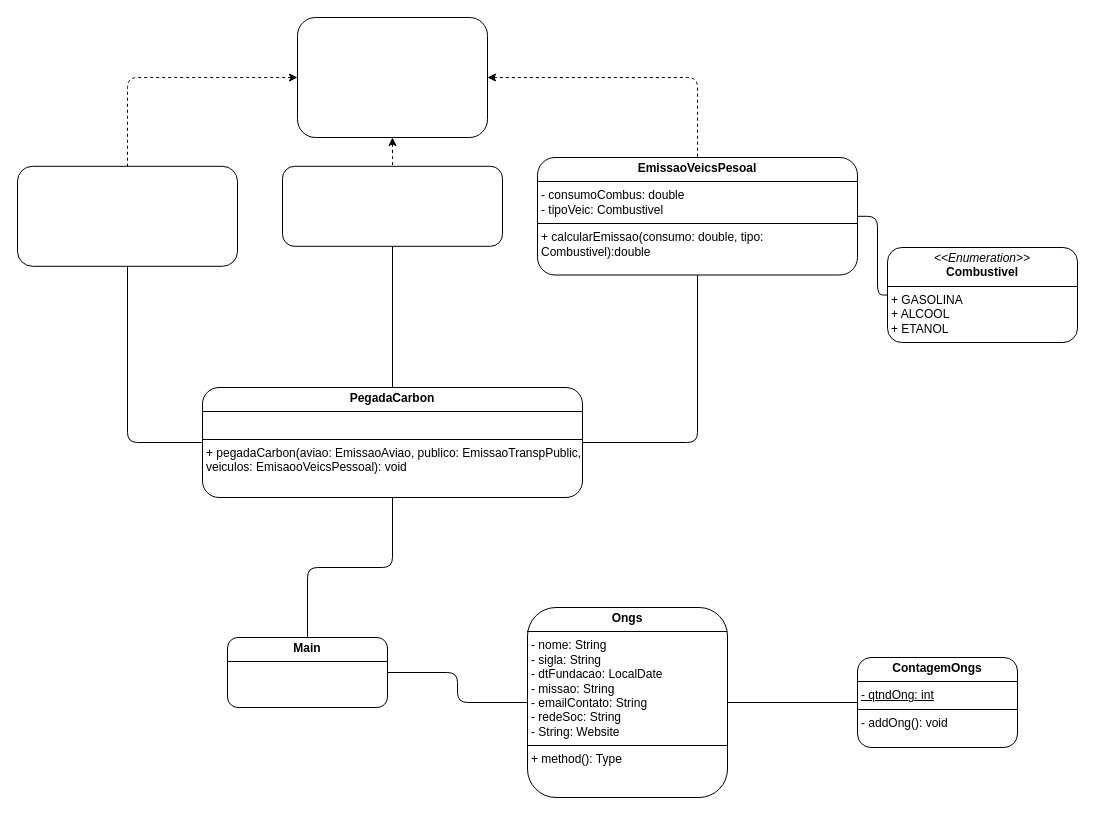
The diagram is 1095 pixels wide and 815 high, and some of its shapes have lost their labels. Each missing label, with the box of its shape:
<<Interface>> IEmissoes - KmMedioAno: + calcularEmissao:: (296, 16, 488, 138)
EmissaoAviao + calcularEmissao(): double: (16, 165, 238, 266)
EmissaoTranspPublic + calcularEmissao()double:: (282, 165, 502, 246)
